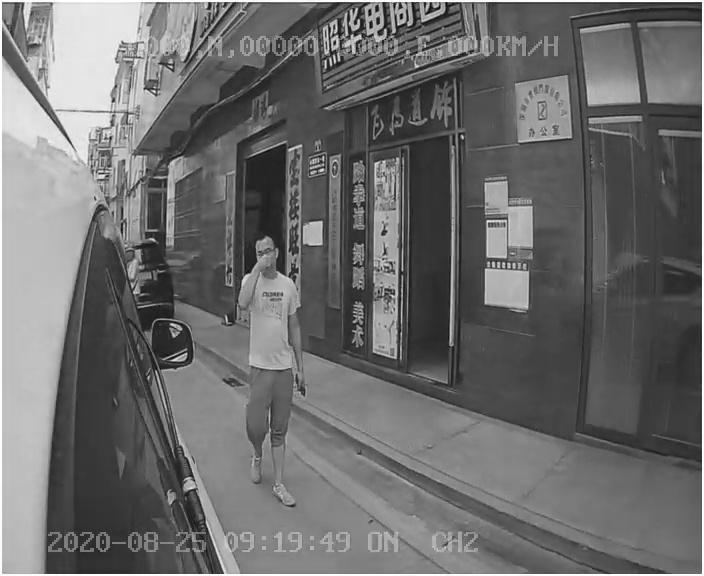person: (223, 234, 335, 514)
